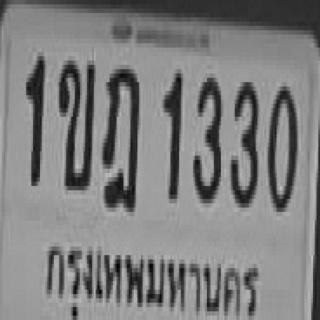A02: (58, 56, 94, 186)
A14: (101, 65, 138, 208)
N00: (266, 82, 296, 208)
N01: (24, 52, 44, 182), (162, 67, 181, 197)
N03: (191, 74, 221, 199), (230, 78, 257, 203)
P04: (40, 234, 263, 320)
